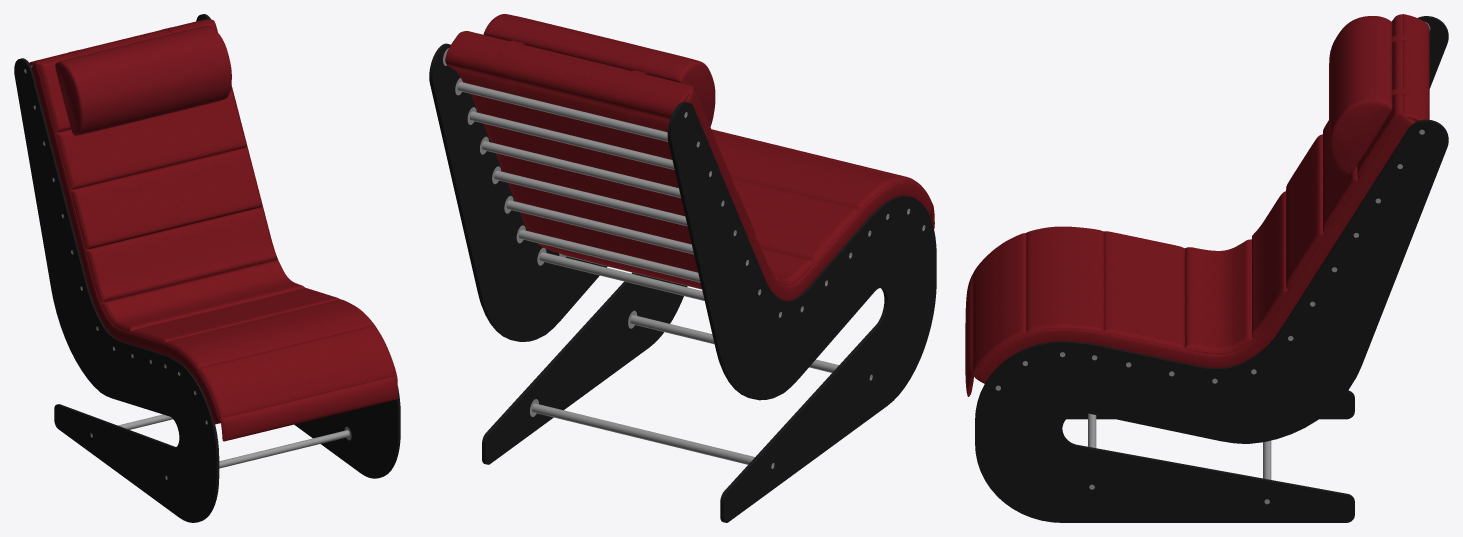
Rendered from angel-poltrona-teknofibra-20.glb.
3 renders of one model, left to right at view 1: azimuth 30°, elevation 25°; view 2: azimuth 150°, elevation 25°; view 3: azimuth 270°, elevation 25°, orthographic. The views are drawn at different scales.
Visible parts, largest first — view 1: angel-seduta, angel-struttura, angel-tubolare; view 2: angel-struttura, angel-seduta, angel-tubolare; view 3: angel-struttura, angel-seduta, angel-tubolare.
Part boxes in pixels (x1=…): angel-seduta: x1=29, y1=19, x2=397, y2=441; angel-struttura: x1=14, y1=14, x2=400, y2=522; angel-tubolare: x1=24, y1=66, x2=351, y2=479; angel-struttura: x1=429, y1=43, x2=936, y2=522; angel-seduta: x1=445, y1=14, x2=934, y2=300; angel-tubolare: x1=443, y1=48, x2=925, y2=468; angel-struttura: x1=975, y1=16, x2=1448, y2=522; angel-seduta: x1=965, y1=14, x2=1429, y2=396; angel-tubolare: x1=995, y1=22, x2=1430, y2=504.
Bounding box in the file's own units: 0.5685 × 1.04 × 1.1.
3 materials, 1 textured.
